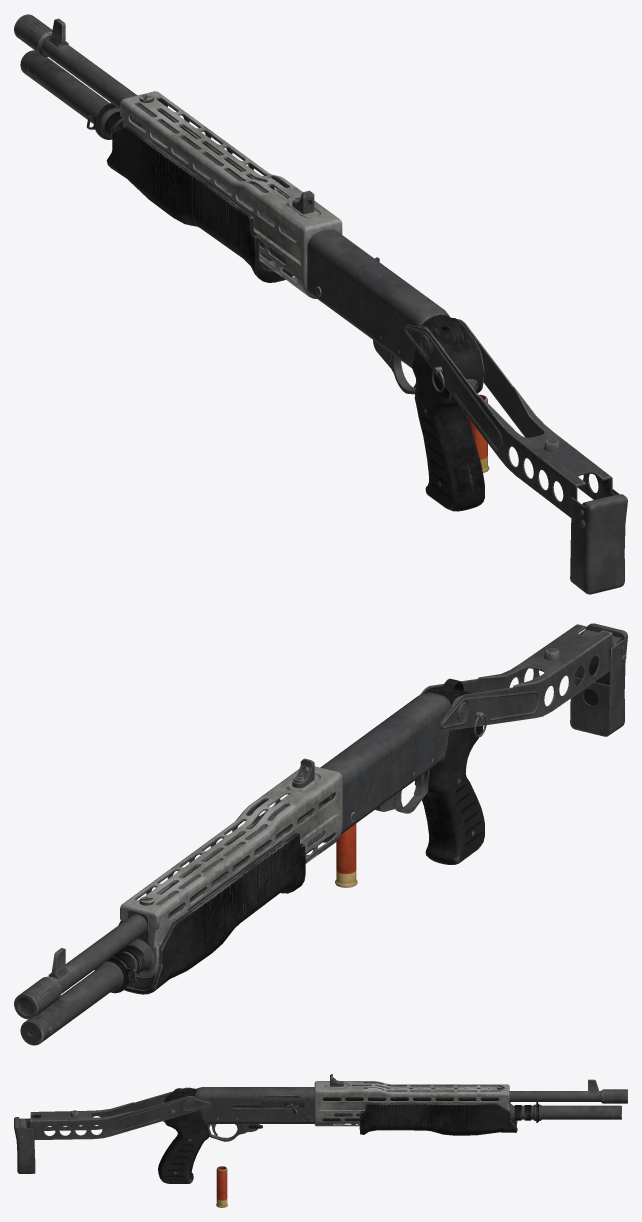
Rendered from spas-12.glb.
3 renders of one model, top to bottom at view 1: azimuth 30°, elevation 25°; view 2: azimuth 150°, elevation 25°; view 3: azimuth 270°, elevation 25°, orthographic. The views are drawn at different scales.
Parts seen in each view (by area): view 1: Object_5, Object_3; view 2: Object_5, Object_3; view 3: Object_5, Object_3.
Boxes of the visible parts, x1,y1,x2,y2 form: Object_5: (48, 18, 627, 594); Object_3: (14, 14, 617, 527); Object_5: (48, 623, 627, 994); Object_3: (14, 630, 626, 1045); Object_5: (14, 1074, 598, 1207); Object_3: (19, 1081, 627, 1183).
Bounding box in the file's own units: 0.1036 × 0.2124 × 1.04.
2 materials, 2 textured.
